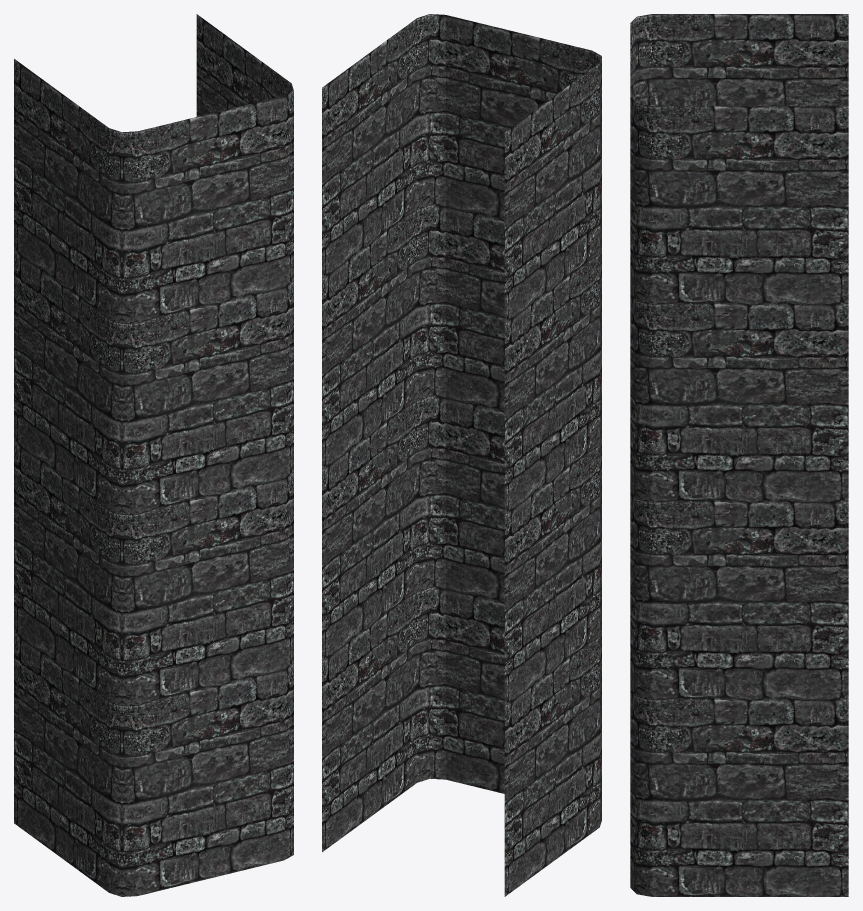
Rendered from wallBlockOS.fbx.
3 renders of one model, left to right at view 1: azimuth 30°, elevation 25°; view 2: azimuth 150°, elevation 25°; view 3: azimuth 270°, elevation 25°, orthographic. The views are drawn at different scales.
Visible parts, largest first — view 1: polySurface30; view 2: polySurface30; view 3: polySurface30.
Part boxes in pixels (x1,y1,x2,y2): polySurface30: [14, 14, 293, 896]; polySurface30: [322, 14, 601, 896]; polySurface30: [630, 14, 848, 896].
Bounding box in the file's own units: 2 × 8 × 2.
